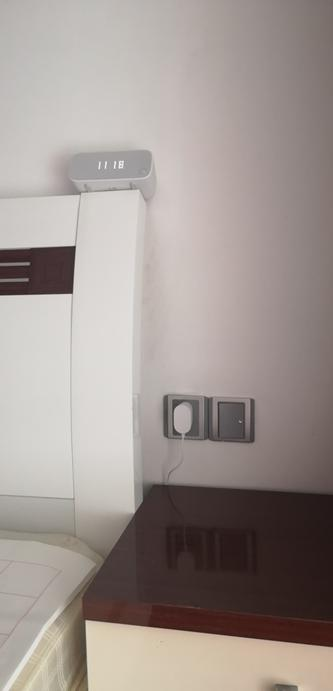switch: (212, 401, 251, 437)
